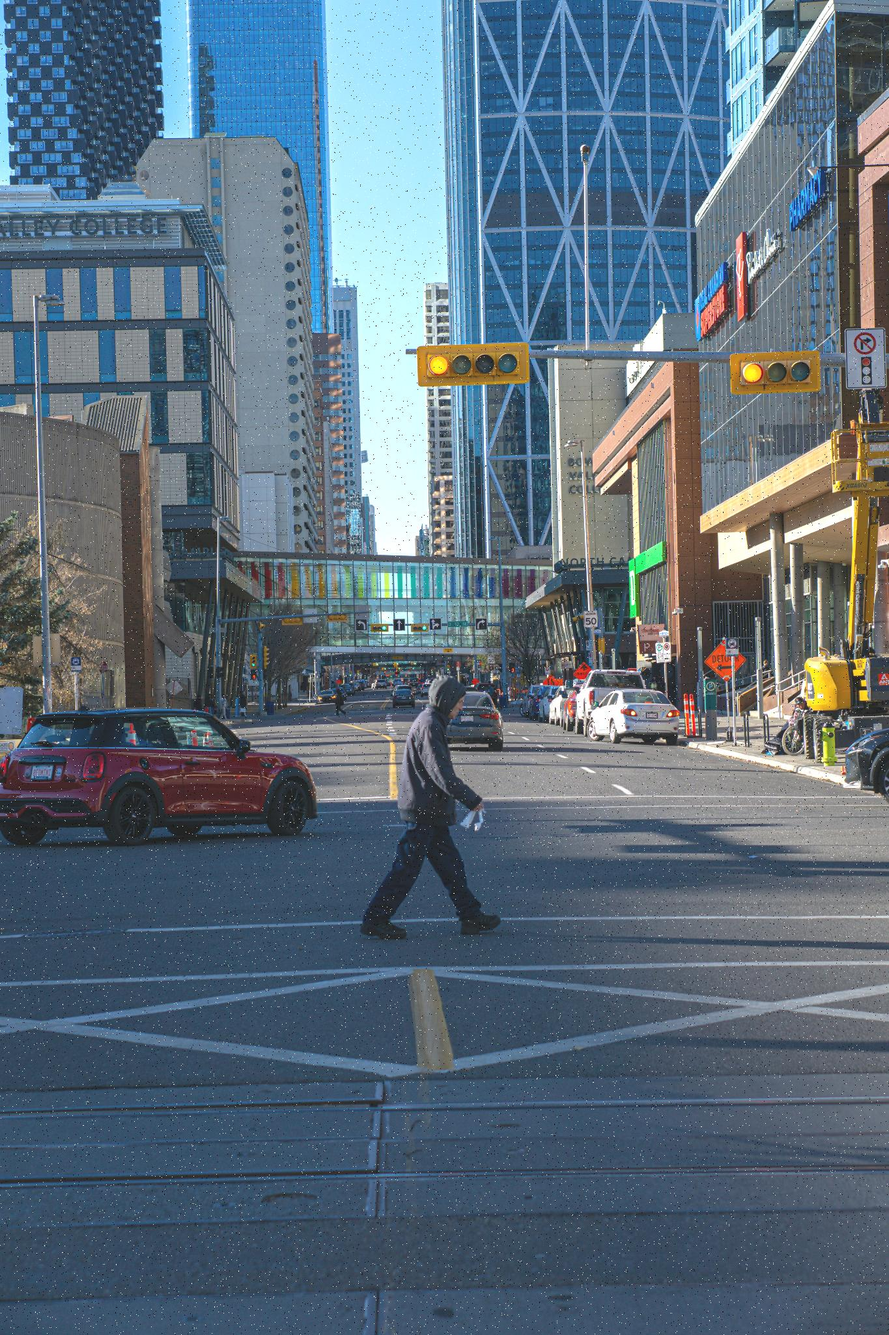car: (4, 719, 322, 859), (588, 693, 684, 749), (843, 720, 889, 797), (449, 695, 507, 752), (527, 682, 564, 721)
pedestrian: (360, 673, 500, 945)
